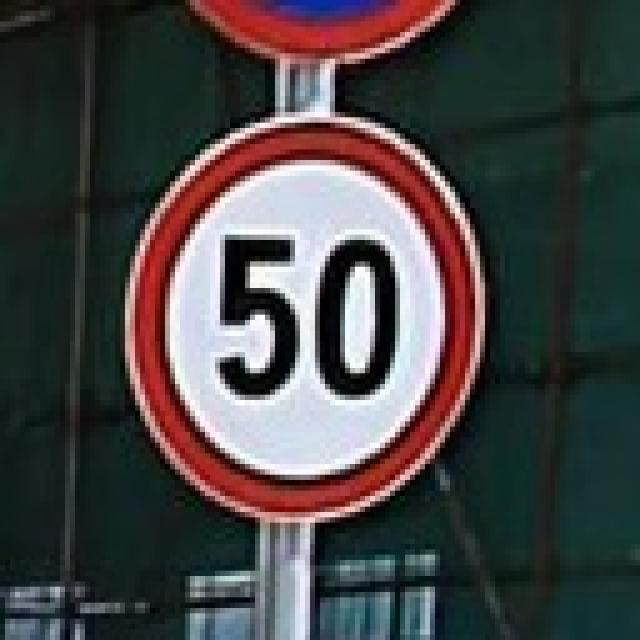Speed Limit -50-: (213, 228, 404, 408)
